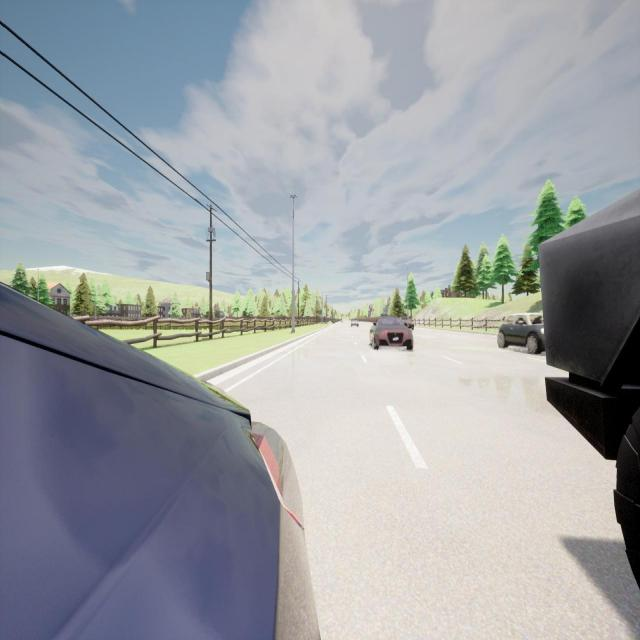Vehicle: (0, 285, 319, 640), (539, 190, 639, 586), (496, 312, 546, 355), (368, 314, 414, 350), (401, 316, 415, 331), (351, 318, 359, 328)
